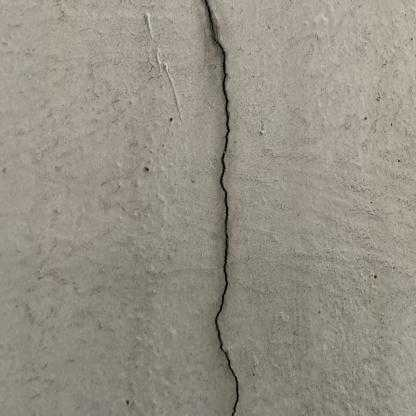crack: (205, 0, 239, 413)
